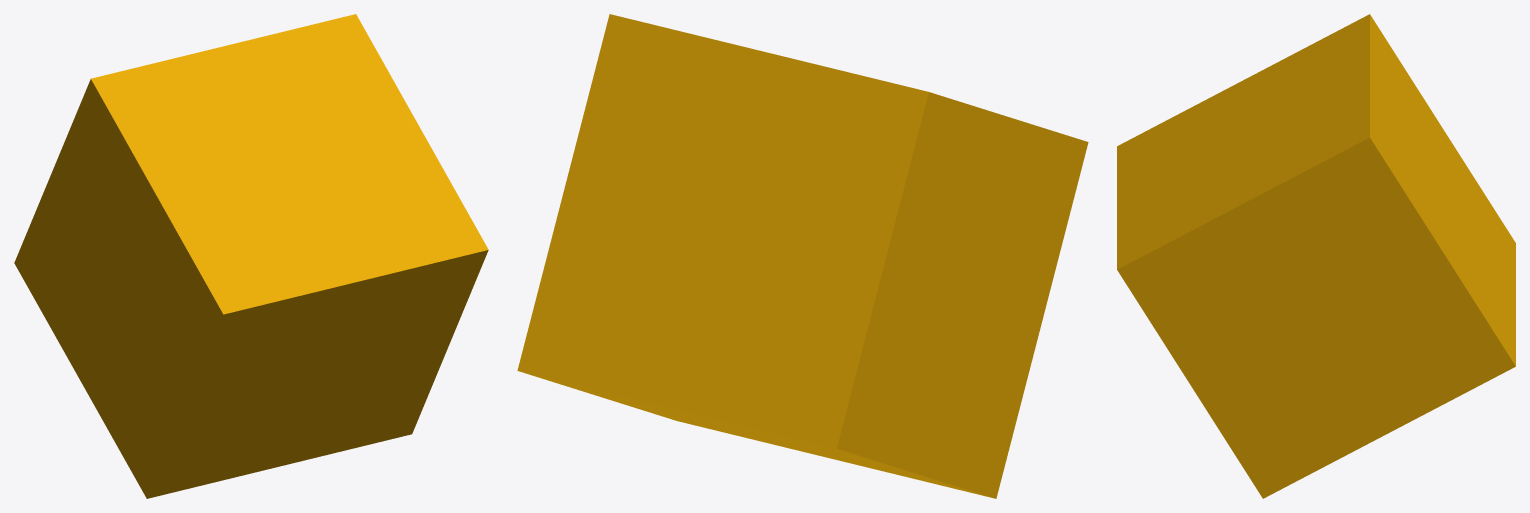
Rendered from functionality_teleport.FBX.
The picture shows the model from 3 angles, left to right: view 1: azimuth 30°, elevation 25°; view 2: azimuth 150°, elevation 25°; view 3: azimuth 270°, elevation 25°; orthographic projection. The views are drawn at different scales.
Visible parts, largest first — view 1: attach; view 2: attach; view 3: attach.
Part boxes in pixels (<box>): attach: <box>14,14,488,498</box>; attach: <box>517,14,1088,498</box>; attach: <box>1117,14,1515,498</box>.
Size of the model in its own units: 1.11 by 1.51 by 1.51.
